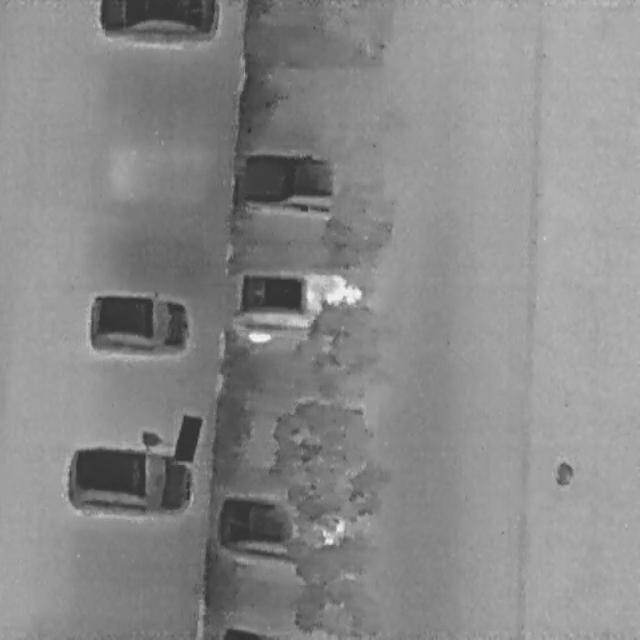Car: (212, 485, 360, 570), (62, 439, 200, 520), (232, 260, 369, 339), (234, 144, 369, 221), (81, 288, 195, 357), (96, 0, 221, 49)
